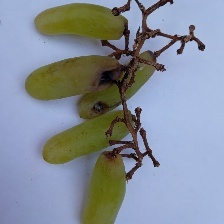grapes: (32, 8, 224, 178)
